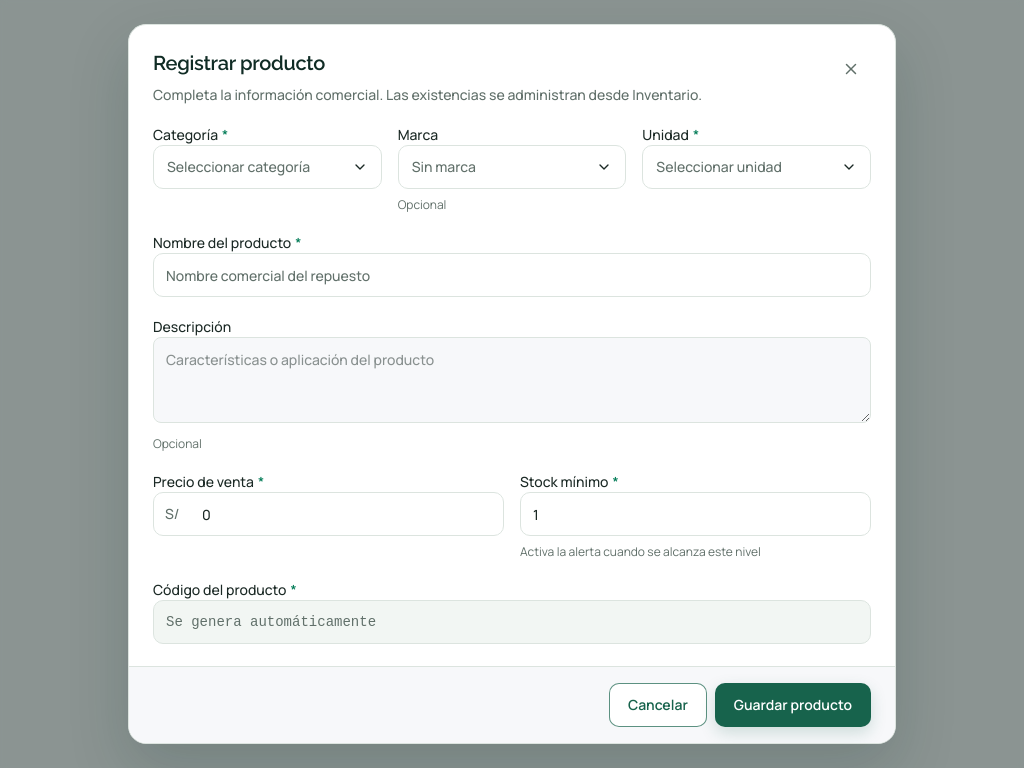
Formulario de productos › valida el formulario sin enviar campos vacíos
Click the button "Guardar producto": (793, 705) [715,683,871,727]
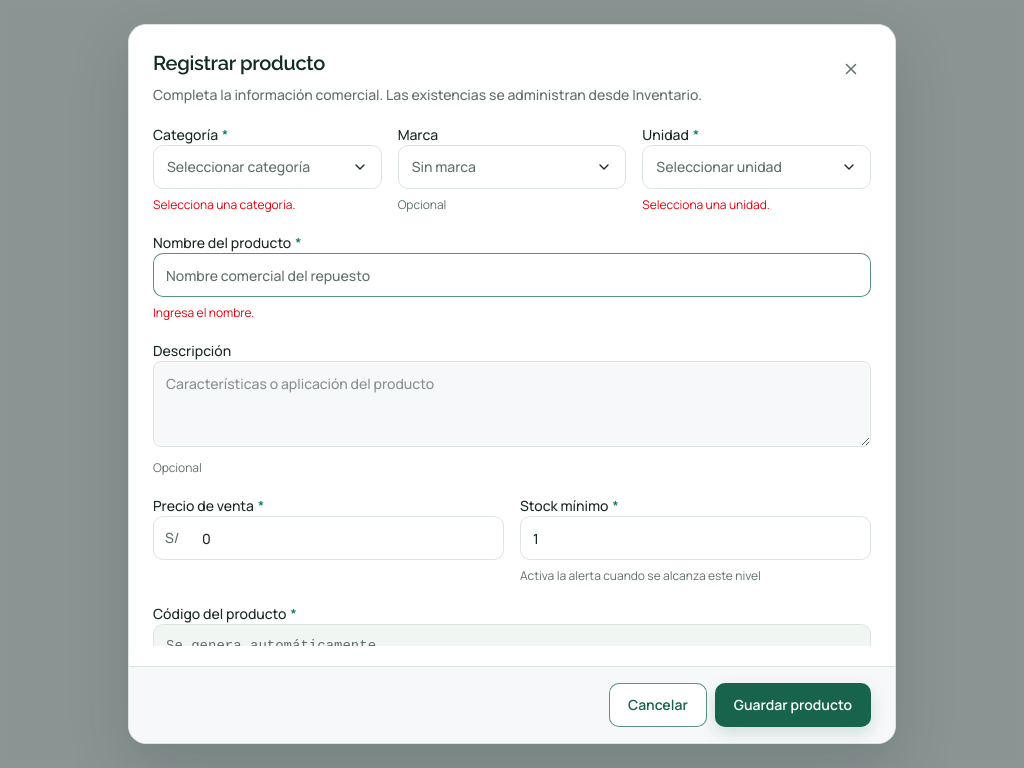
Result: the text "Ingresa el nombre." is shown at [153,304,254,321]
Result: the text "Selecciona una categoría." is shown at [153,196,296,213]
Result: the text "Selecciona una unidad." is shown at [642,196,770,213]
